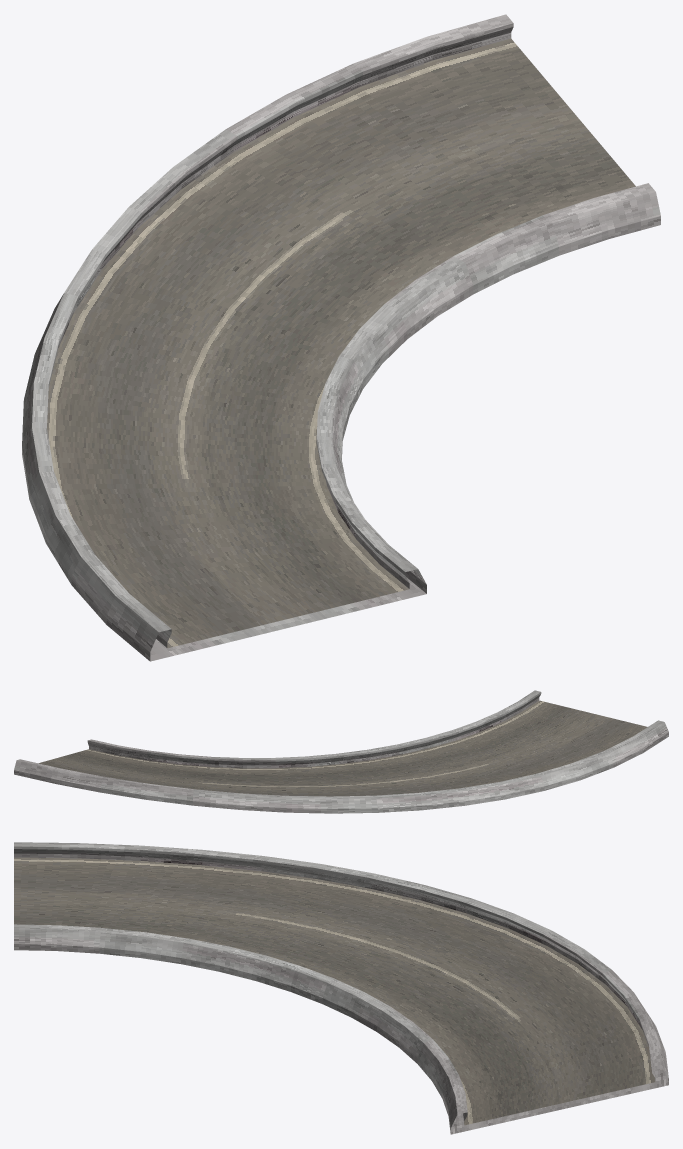
File: road-Turn-Flat-HalfBankedRight-Even-Right-Size3.glb
3 renders of one model, top to bottom at view 1: azimuth 30°, elevation 25°; view 2: azimuth 150°, elevation 25°; view 3: azimuth 270°, elevation 25°, orthographic. The views are drawn at different scales.
Visible parts, largest first — view 1: road-Turn-Flat-HalfBankedRight-Even-Right-Size3; view 2: road-Turn-Flat-HalfBankedRight-Even-Right-Size3; view 3: road-Turn-Flat-HalfBankedRight-Even-Right-Size3.
Boxes of the visible parts, x1,y1,x2,y2 form: road-Turn-Flat-HalfBankedRight-Even-Right-Size3: [22, 14, 660, 661]; road-Turn-Flat-HalfBankedRight-Even-Right-Size3: [14, 690, 668, 813]; road-Turn-Flat-HalfBankedRight-Even-Right-Size3: [14, 842, 668, 1134].
Bounding box in the file's own units: 3 × 0.3359 × 3.
Materials: 2 (2 with a texture image).
